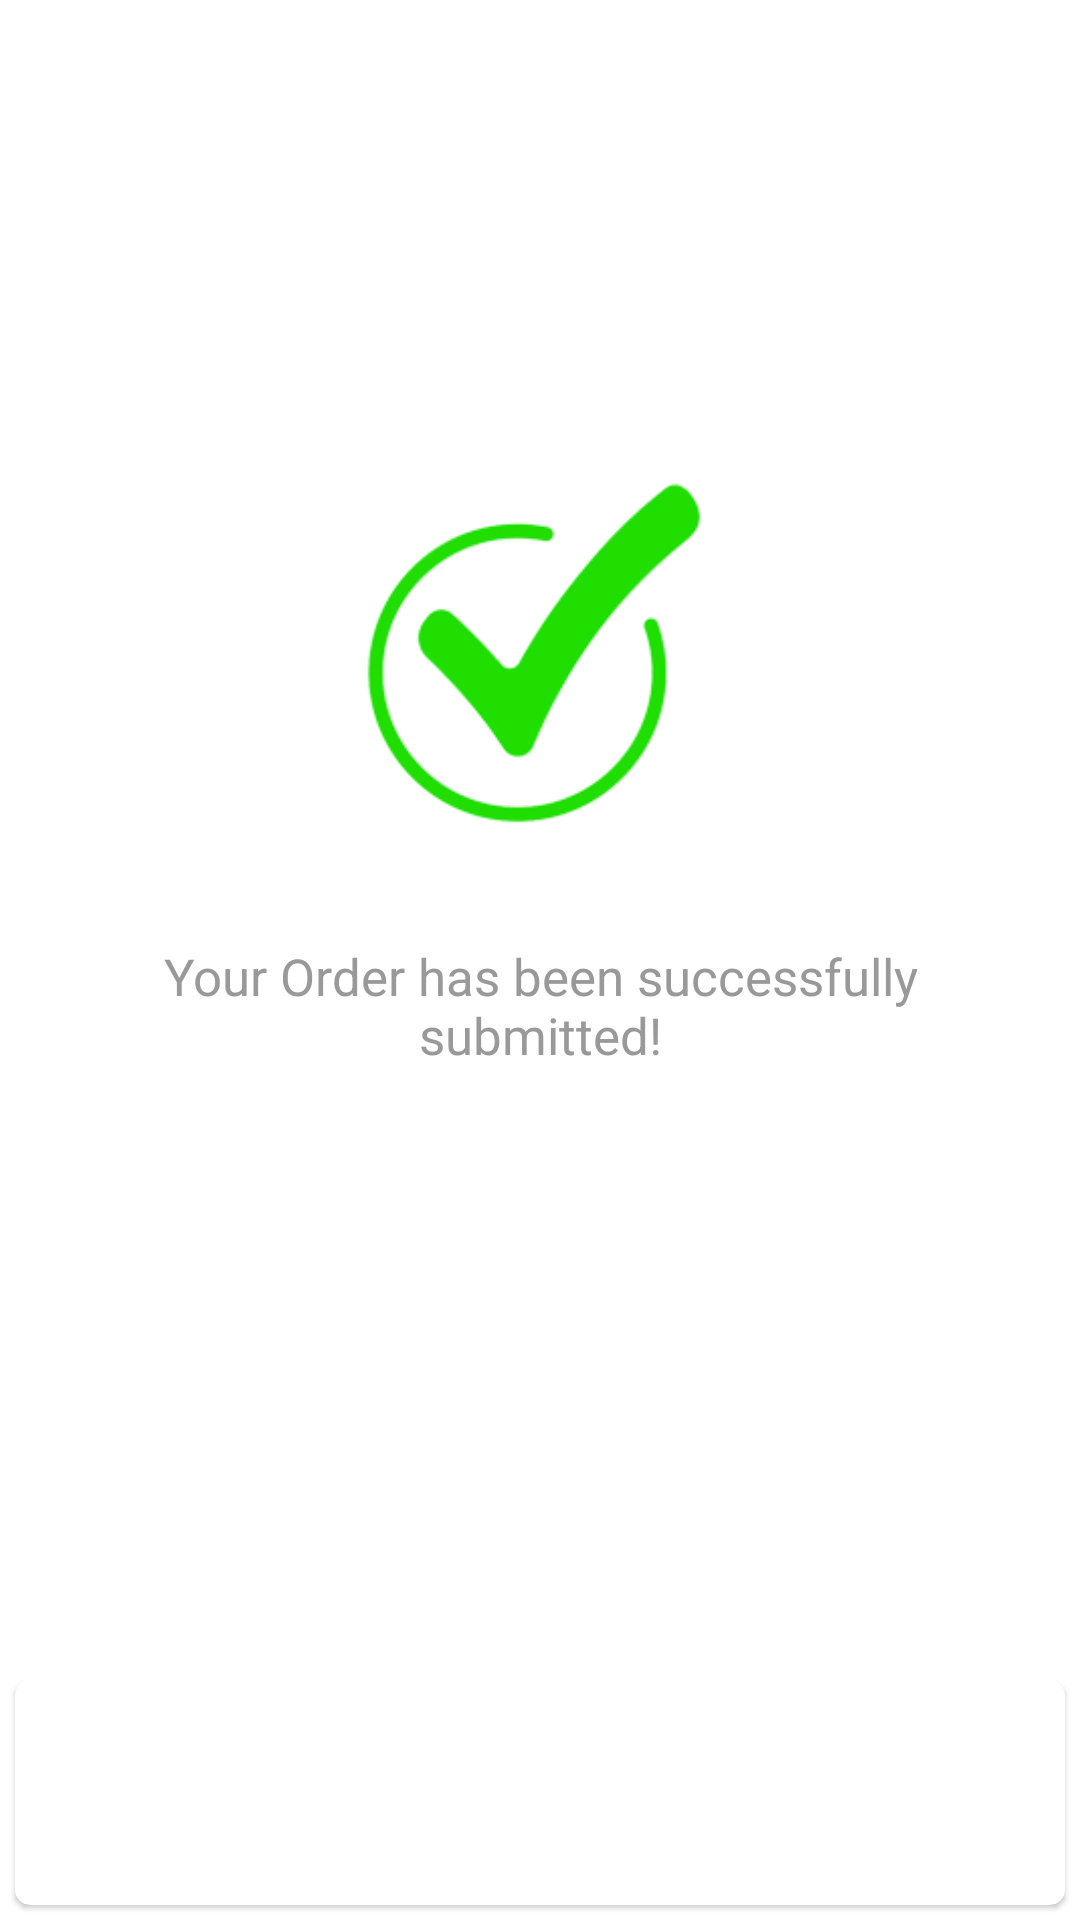

Screen size 1080x1920. Icon name, then its box in pixels as (x1, y1, x2, y2):
check: (367, 483, 701, 823)
